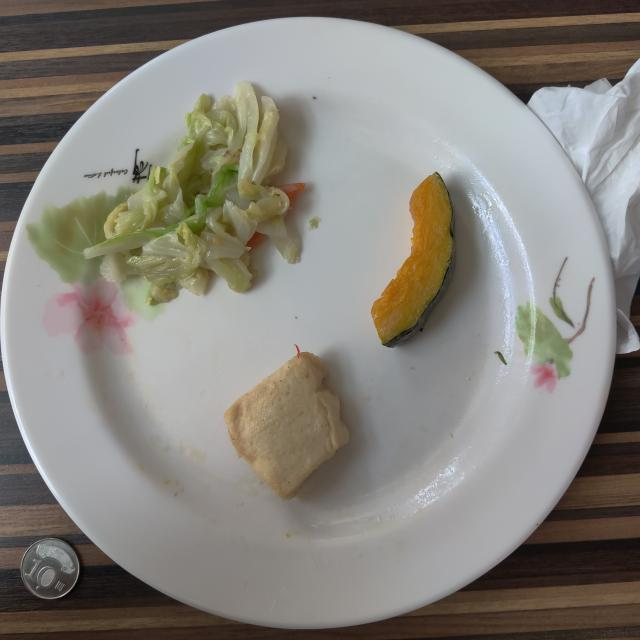cabbage: (85, 81, 299, 305)
coin: (21, 539, 80, 599)
creamy tofu -without sauce-: (224, 352, 349, 500)
pumpkin: (371, 172, 455, 348)
